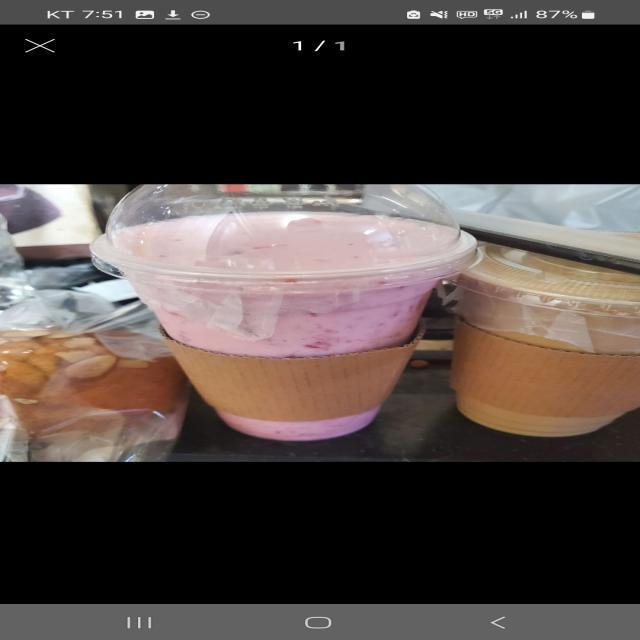cup: (68, 175, 480, 451)
